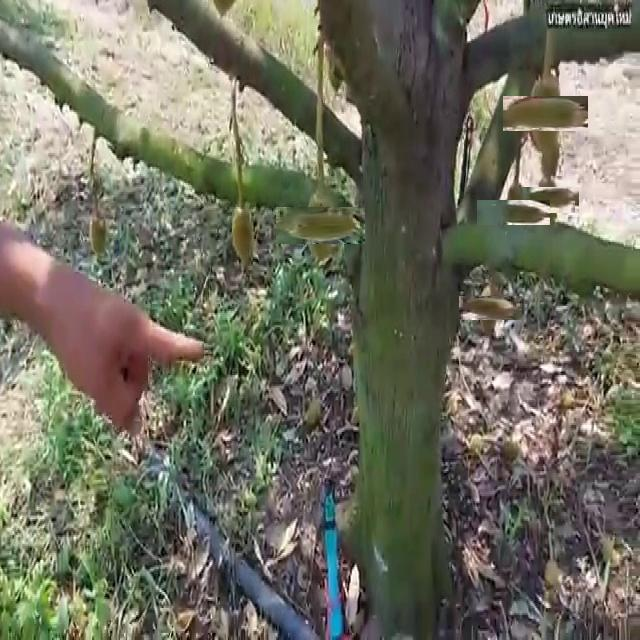durian: (290, 194, 352, 257), (515, 84, 576, 144), (489, 188, 538, 238), (228, 202, 258, 268), (468, 286, 512, 330), (529, 179, 571, 221)
